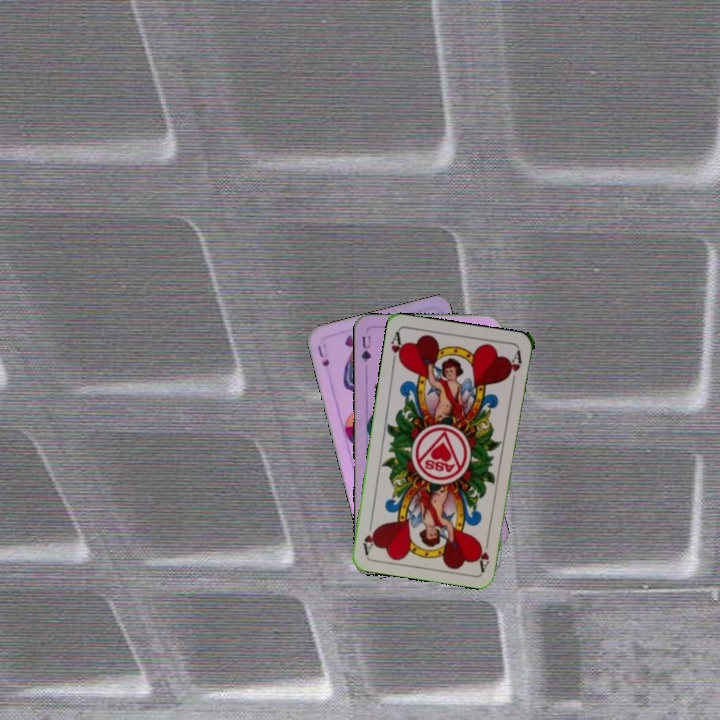GU: (357, 332, 374, 365)
HA: (387, 328, 407, 368), (476, 533, 492, 573)
SU: (314, 342, 332, 369)
